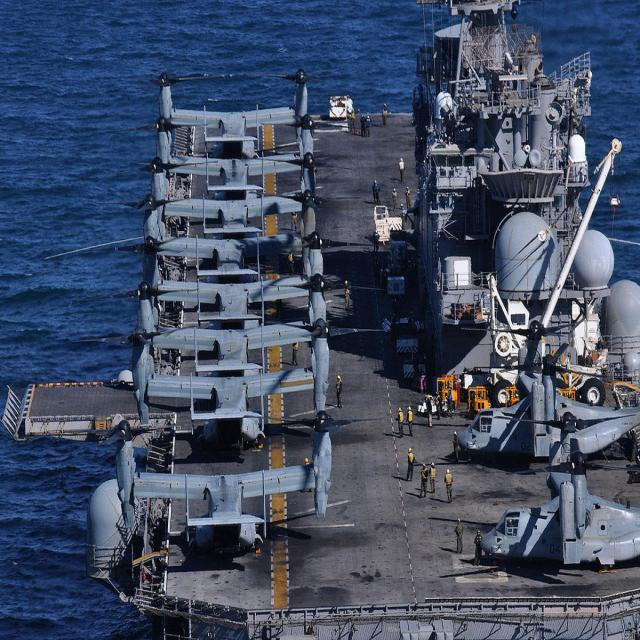MIL_Plane: (68, 410, 378, 557), (69, 318, 386, 450), (76, 273, 384, 376), (81, 227, 381, 330), (457, 319, 640, 462), (98, 188, 361, 283), (480, 412, 640, 566), (106, 114, 362, 200), (114, 151, 354, 239), (130, 68, 330, 159)
